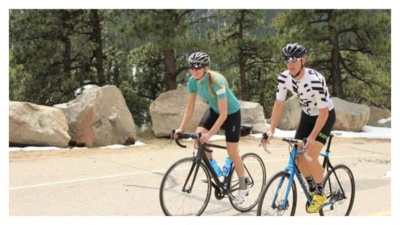helmet: (281, 40, 305, 77), (187, 51, 211, 81)
